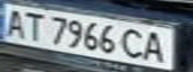6: (96, 22, 121, 55), (81, 20, 103, 53)
7: (42, 13, 69, 46)
9: (63, 17, 84, 50)
A: (139, 28, 172, 64), (0, 6, 30, 38)
C: (118, 27, 148, 61)
T: (18, 9, 48, 42)
